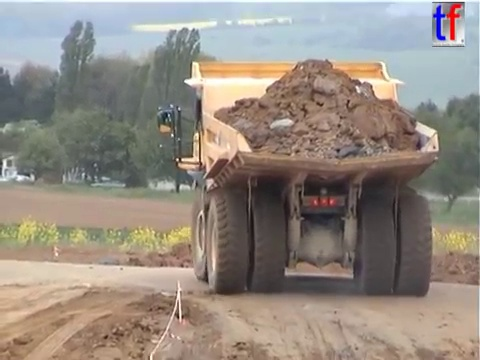truck: (154, 57, 441, 298)
